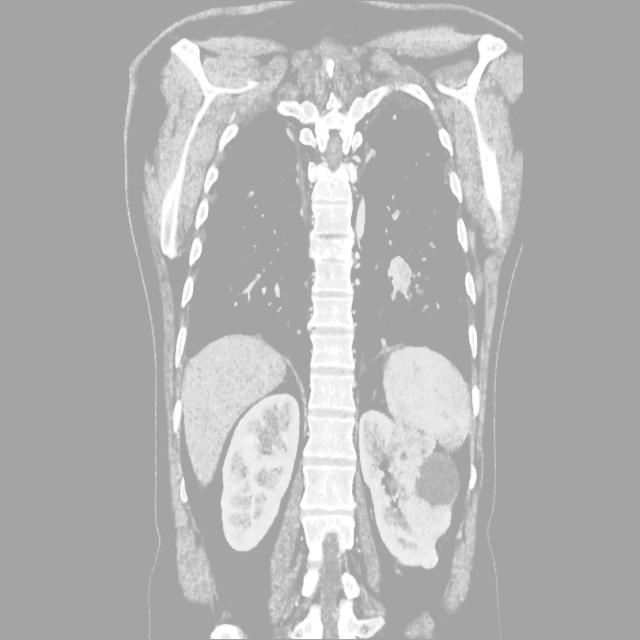TUMOR: (105, 313, 589, 542)
